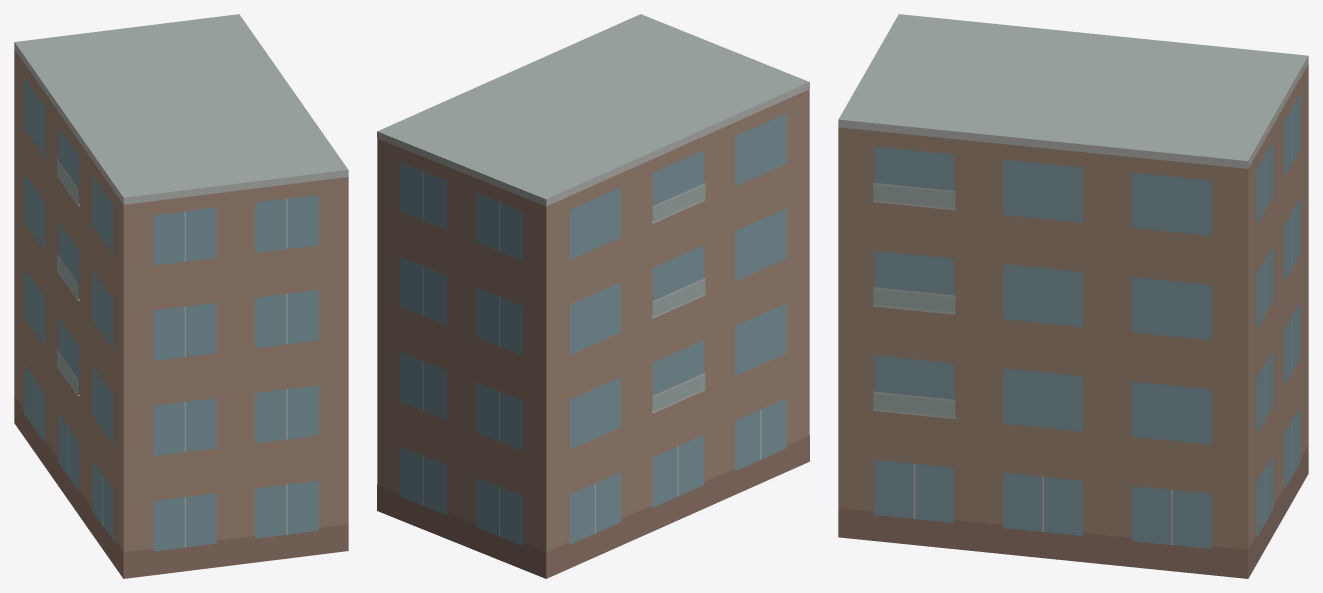
Rendered from survey-upis-32831169.glb.
The picture shows the model from 3 angles, left to right: view 1: azimuth 30°, elevation 25°; view 2: azimuth 150°, elevation 25°; view 3: azimuth 270°, elevation 25°; orthographic projection. The views are drawn at different scales.
Visible parts, largest first — view 1: survey-upis-32831169.tmp; view 2: survey-upis-32831169.tmp; view 3: survey-upis-32831169.tmp.
Part boxes in pixels (box(x1,y1,x2,y2)): survey-upis-32831169.tmp: box(14, 14, 348, 578); survey-upis-32831169.tmp: box(377, 14, 809, 578); survey-upis-32831169.tmp: box(838, 14, 1308, 578).
Bounding box in the file's own units: 9.98 × 13.2 × 13.48.
